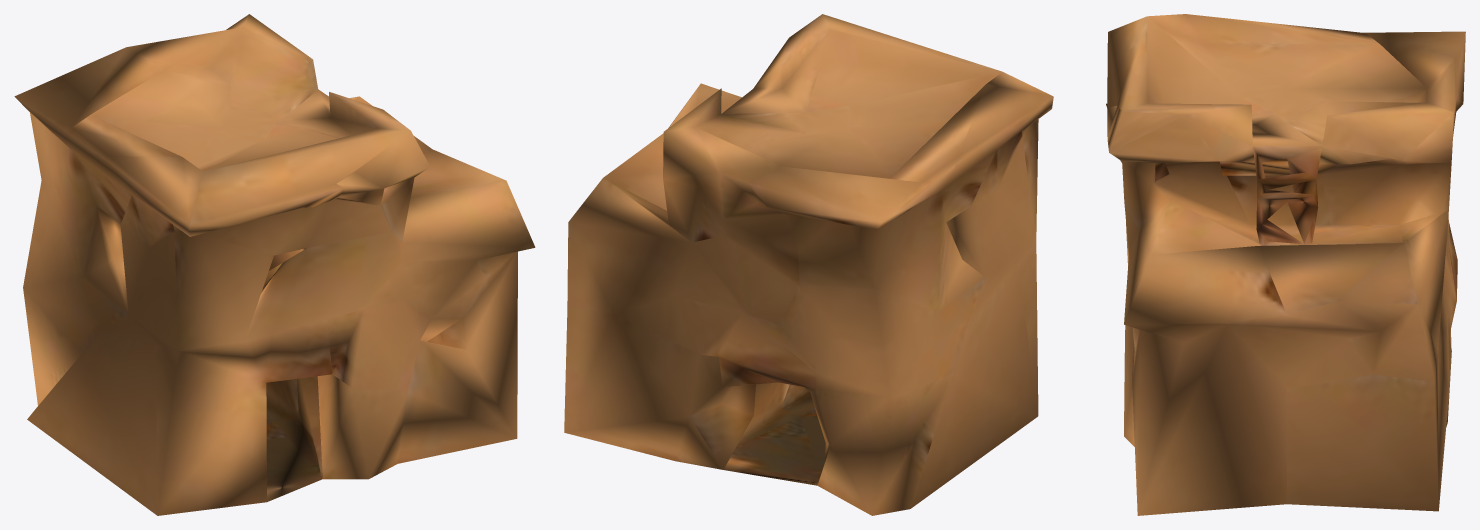
The model's file is house_mudbrick_lo.glb.
The picture shows the model from 3 angles, left to right: view 1: azimuth 30°, elevation 25°; view 2: azimuth 150°, elevation 25°; view 3: azimuth 270°, elevation 25°; orthographic projection. The views are drawn at different scales.
Visible parts, largest first — view 1: tripo_node_a80a0e80-4584-4227-bbc5-5994a26113fb; view 2: tripo_node_a80a0e80-4584-4227-bbc5-5994a26113fb; view 3: tripo_node_a80a0e80-4584-4227-bbc5-5994a26113fb.
Boxes of the visible parts, x1,y1,x2,y2 form: tripo_node_a80a0e80-4584-4227-bbc5-5994a26113fb: (14, 14, 535, 515); tripo_node_a80a0e80-4584-4227-bbc5-5994a26113fb: (564, 14, 1053, 515); tripo_node_a80a0e80-4584-4227-bbc5-5994a26113fb: (1106, 14, 1465, 515).
Bounding box in the file's own units: 0.9644 × 0.8698 × 0.8679.
1 material, 1 textured.
